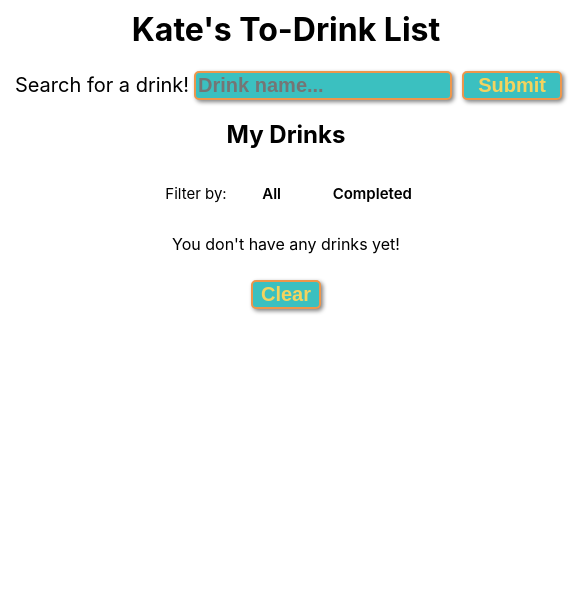
Test: Search drink test › Shows clicked drink in searchbar
The width and height of the screenshot is (584, 590).
Click the field with placeholder "Drink name..." at (323,85), box [194,71,452,100]
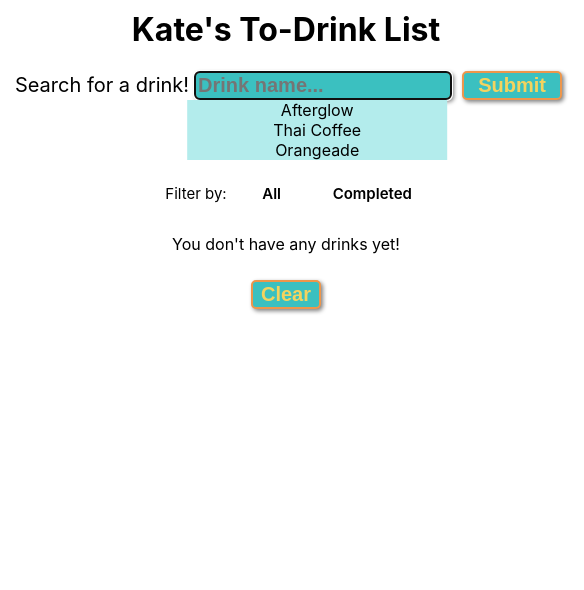
Click the list item "Afterglow" at (317,110), box [281,100,354,120]
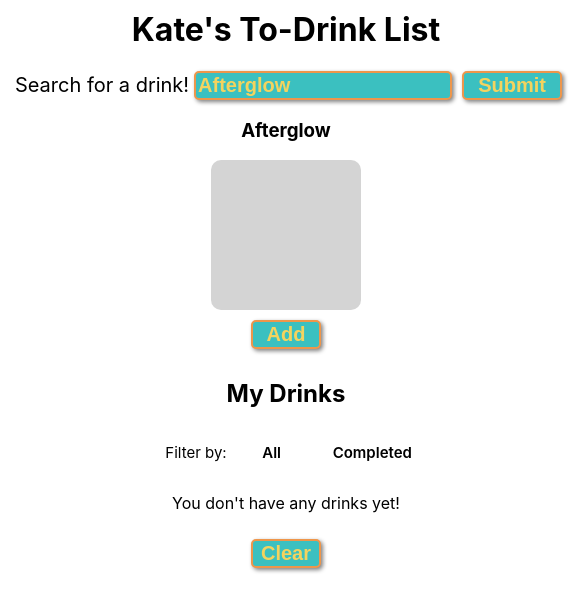
expect the field showing "Afterglow" is shown: met, box [194,71,452,100]
